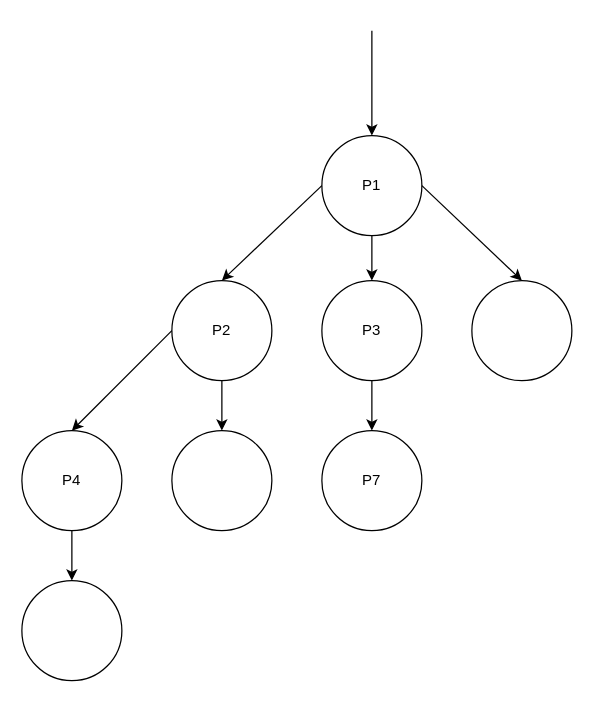
The diagram is 594 pixels wide and 703 high, and some of its shapes have lost their labels. The centre of each missing label's shape, as x and y in pixels:
P5: the point at 521,330
P6: the point at 221,480
P8: the point at 71,630
